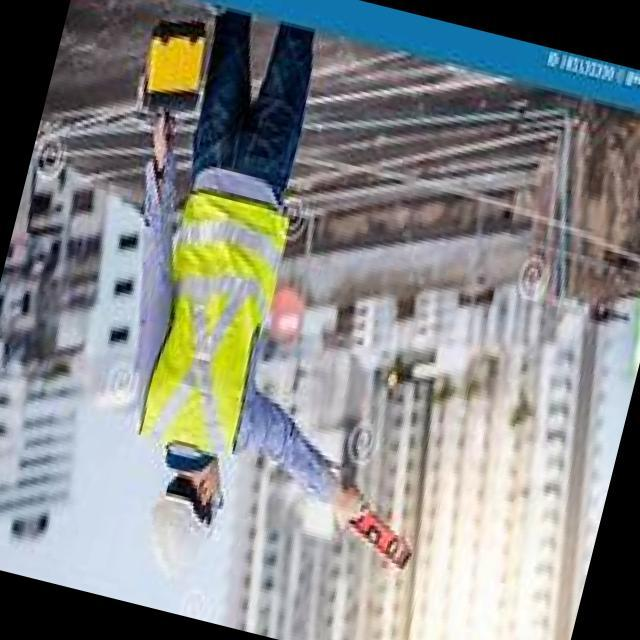not-gloved: (322, 468, 372, 550)
